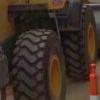Tractor: (7, 5, 100, 97)
